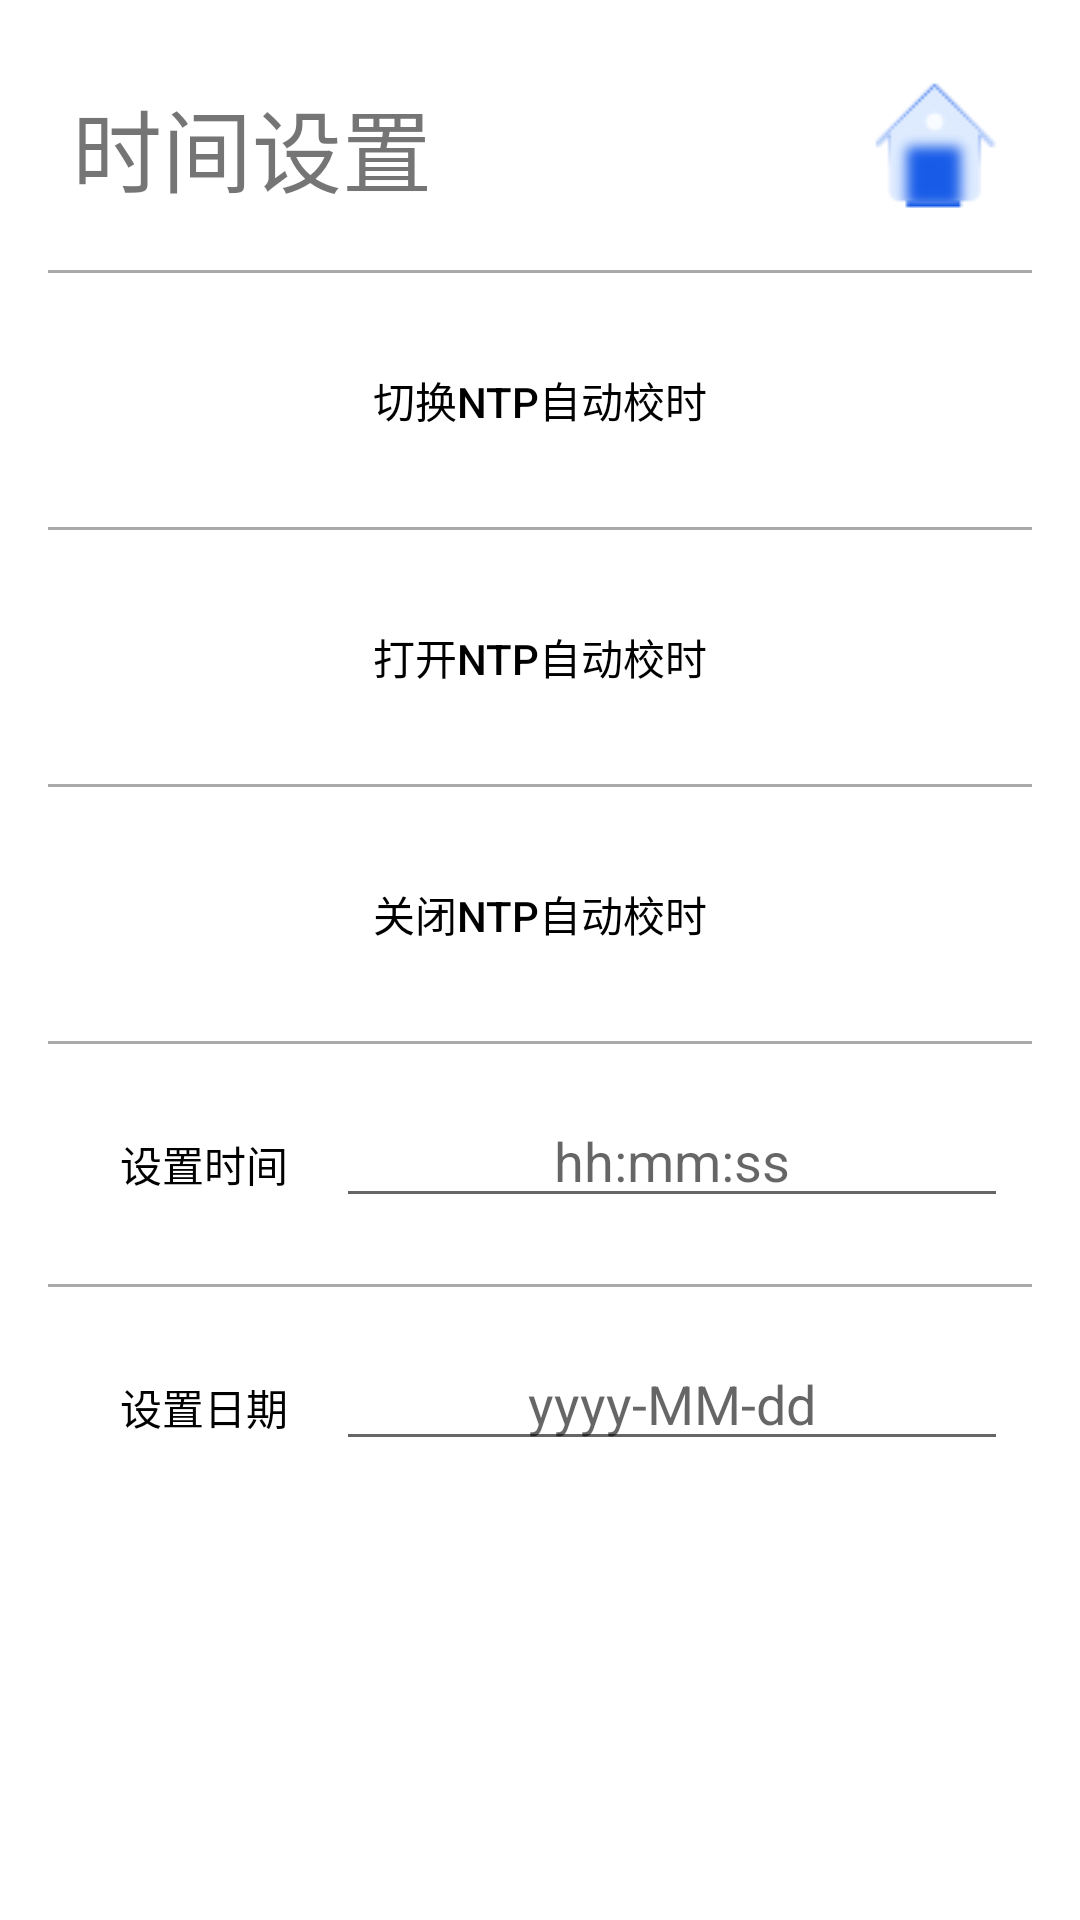

Point at icon controls on the screen. Image size 1080w x 1920h, points as (x=x, y=y).
主界面: (x=935, y=145)
